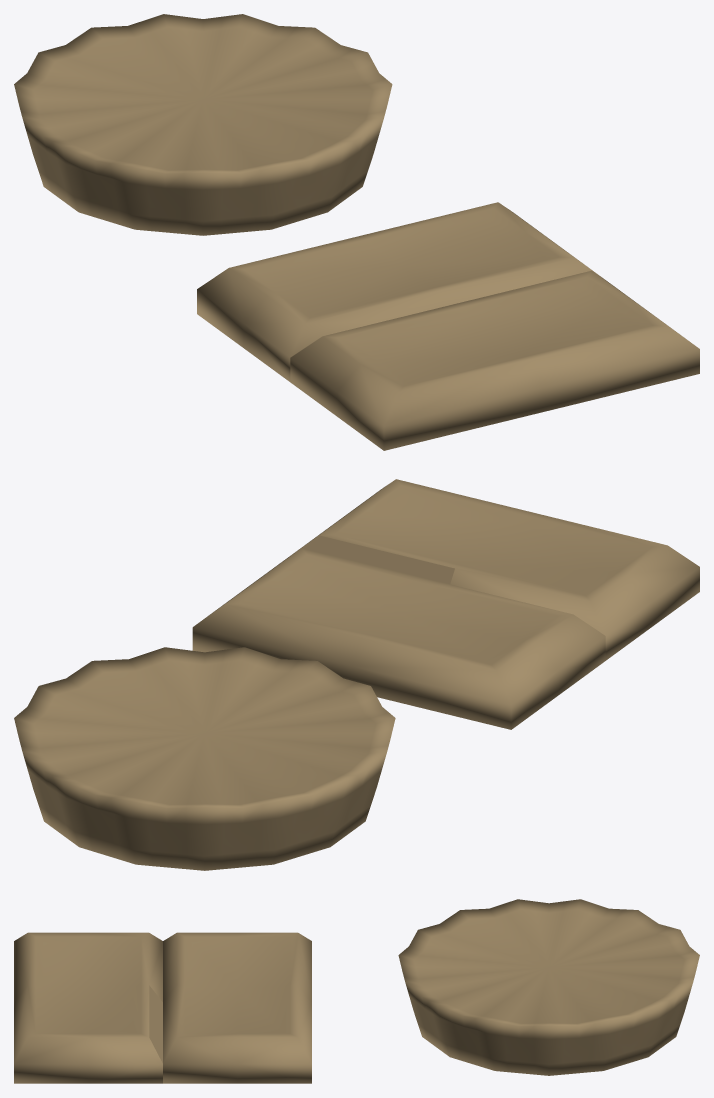
File: Chohonon.fbx
The picture shows the model from 3 angles, top to bottom: view 1: azimuth 30°, elevation 25°; view 2: azimuth 150°, elevation 25°; view 3: azimuth 270°, elevation 25°; orthographic projection. The views are drawn at different scales.
Parts seen in each view (by area): view 1: Candy:DoubleChoco_0, Candy:PnutButterCup_0; view 2: Candy:DoubleChoco_0, Candy:PnutButterCup_0; view 3: Candy:DoubleChoco_0, Candy:PnutButterCup_0.
Boxes of the visible parts, bbox=[...] form: Candy:DoubleChoco_0: bbox=[197, 202, 699, 450]; Candy:PnutButterCup_0: bbox=[14, 14, 392, 235]; Candy:DoubleChoco_0: bbox=[192, 479, 699, 729]; Candy:PnutButterCup_0: bbox=[14, 647, 395, 870]; Candy:DoubleChoco_0: bbox=[14, 932, 311, 1083]; Candy:PnutButterCup_0: bbox=[398, 899, 699, 1075].
Bounding box in the file's own units: 8.85 × 1.93 × 20.23.
